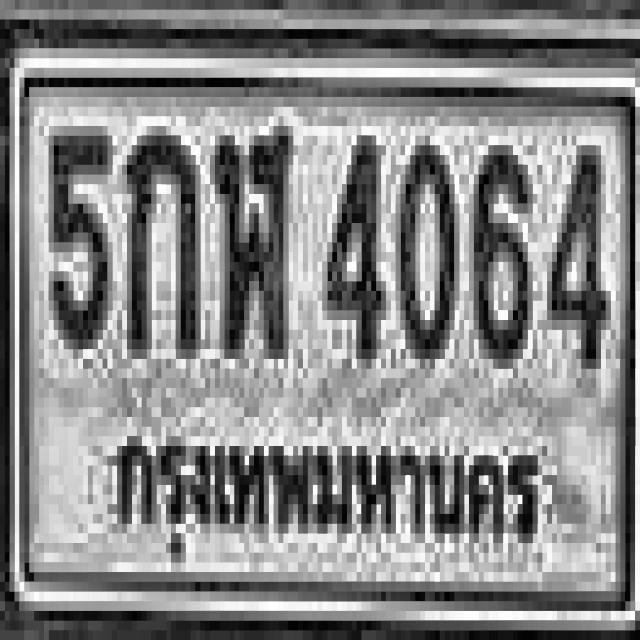license-plate: (8, 44, 640, 633)
